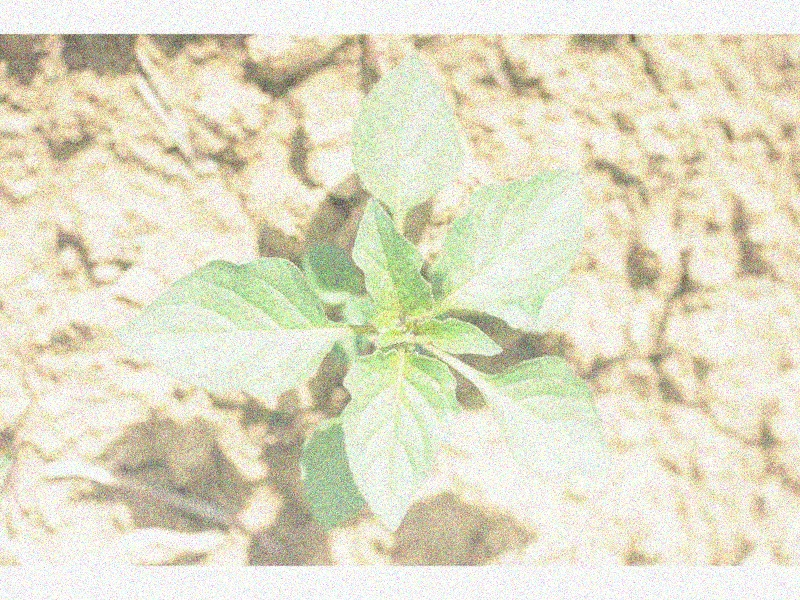nightshade: (119, 53, 614, 534)
